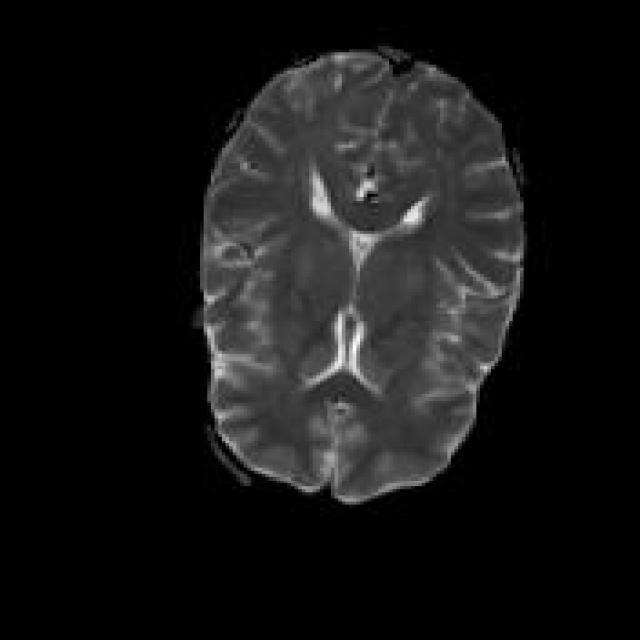CONTROL: (197, 43, 528, 505)
